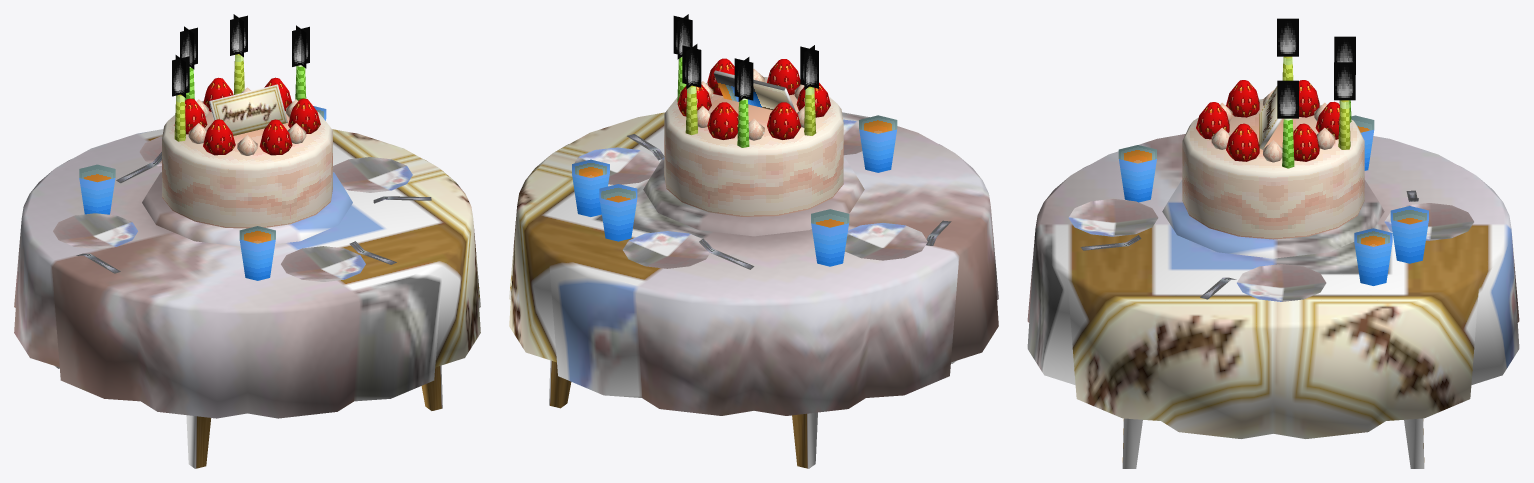
The model's file is int_btd_table.dae.
The picture shows the model from 3 angles, left to right: view 1: azimuth 30°, elevation 25°; view 2: azimuth 150°, elevation 25°; view 3: azimuth 270°, elevation 25°; orthographic projection. The views are drawn at different scales.
Parts seen in each view (by area): view 1: int_btd_table; view 2: int_btd_table; view 3: int_btd_table.
Boxes of the visible parts, x1,y1,x2,y2 form: int_btd_table: [14, 14, 480, 468]; int_btd_table: [509, 14, 998, 468]; int_btd_table: [1027, 18, 1519, 468].
Size of the model in its own units: 59.02 by 47.1 by 59.02.
Materials: 3 (3 with a texture image).
